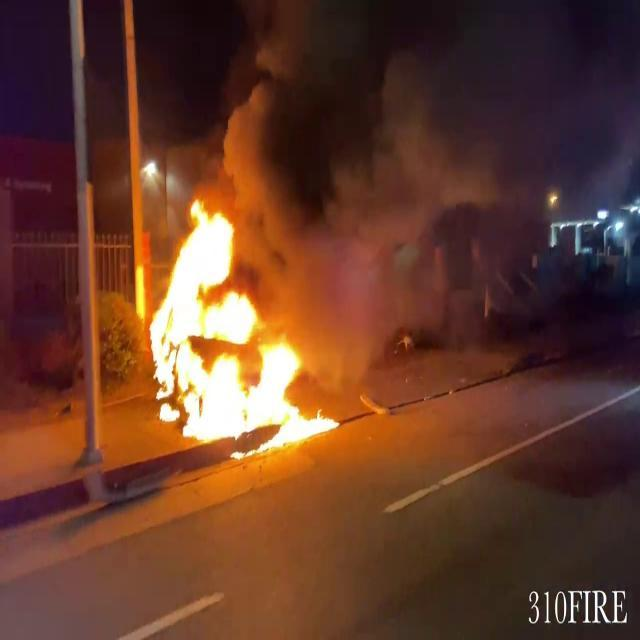Fire: (142, 191, 340, 453)
Smoke: (232, 3, 508, 330)
